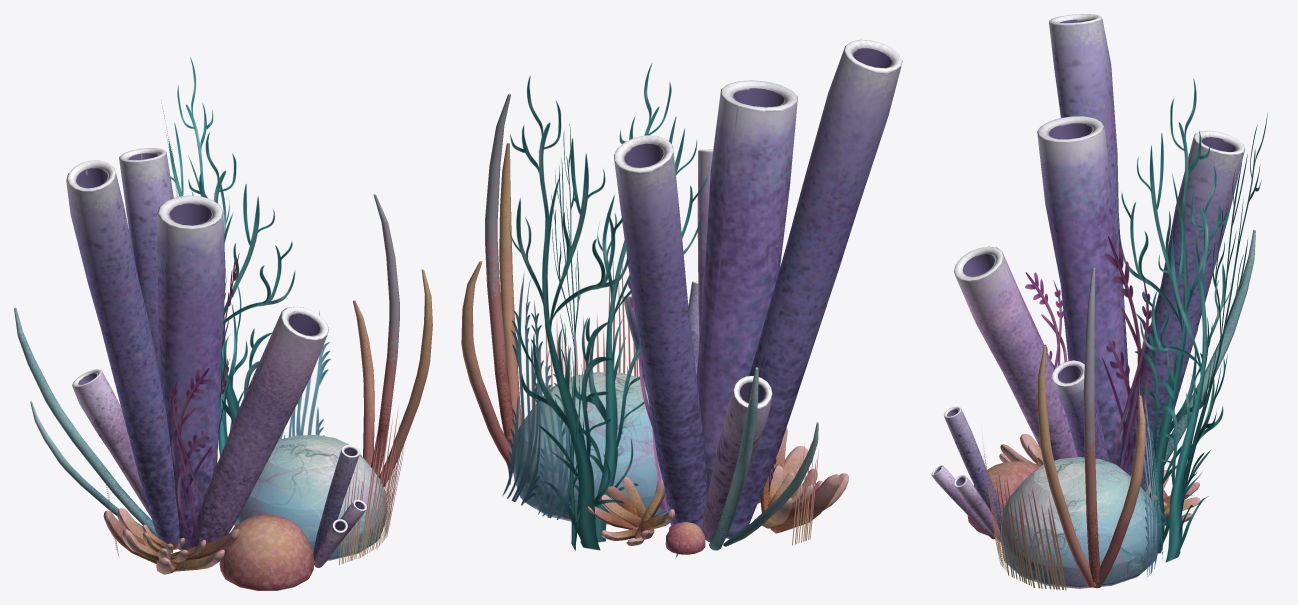
The model's file is coral_piece.glb.
3 renders of one model, left to right at view 1: azimuth 30°, elevation 25°; view 2: azimuth 150°, elevation 25°; view 3: azimuth 270°, elevation 25°, orthographic. The views are drawn at different scales.
Parts seen in each view (by area): view 1: polySurface267; view 2: polySurface267; view 3: polySurface267.
Part boxes in pixels (x1,y1,x2,y2): polySurface267: [14, 57, 432, 590]; polySurface267: [461, 39, 902, 556]; polySurface267: [931, 14, 1267, 590].
Size of the model in its own units: 3.09 by 4.06 by 2.64.
Materials: 2 (2 with a texture image).
